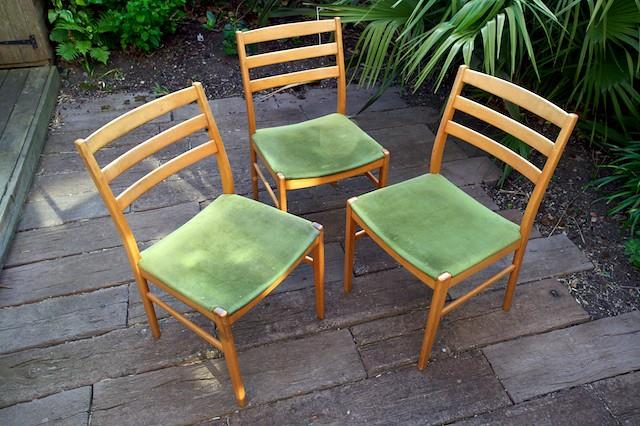chair: (74, 81, 326, 408), (343, 64, 580, 372), (235, 17, 391, 216)
